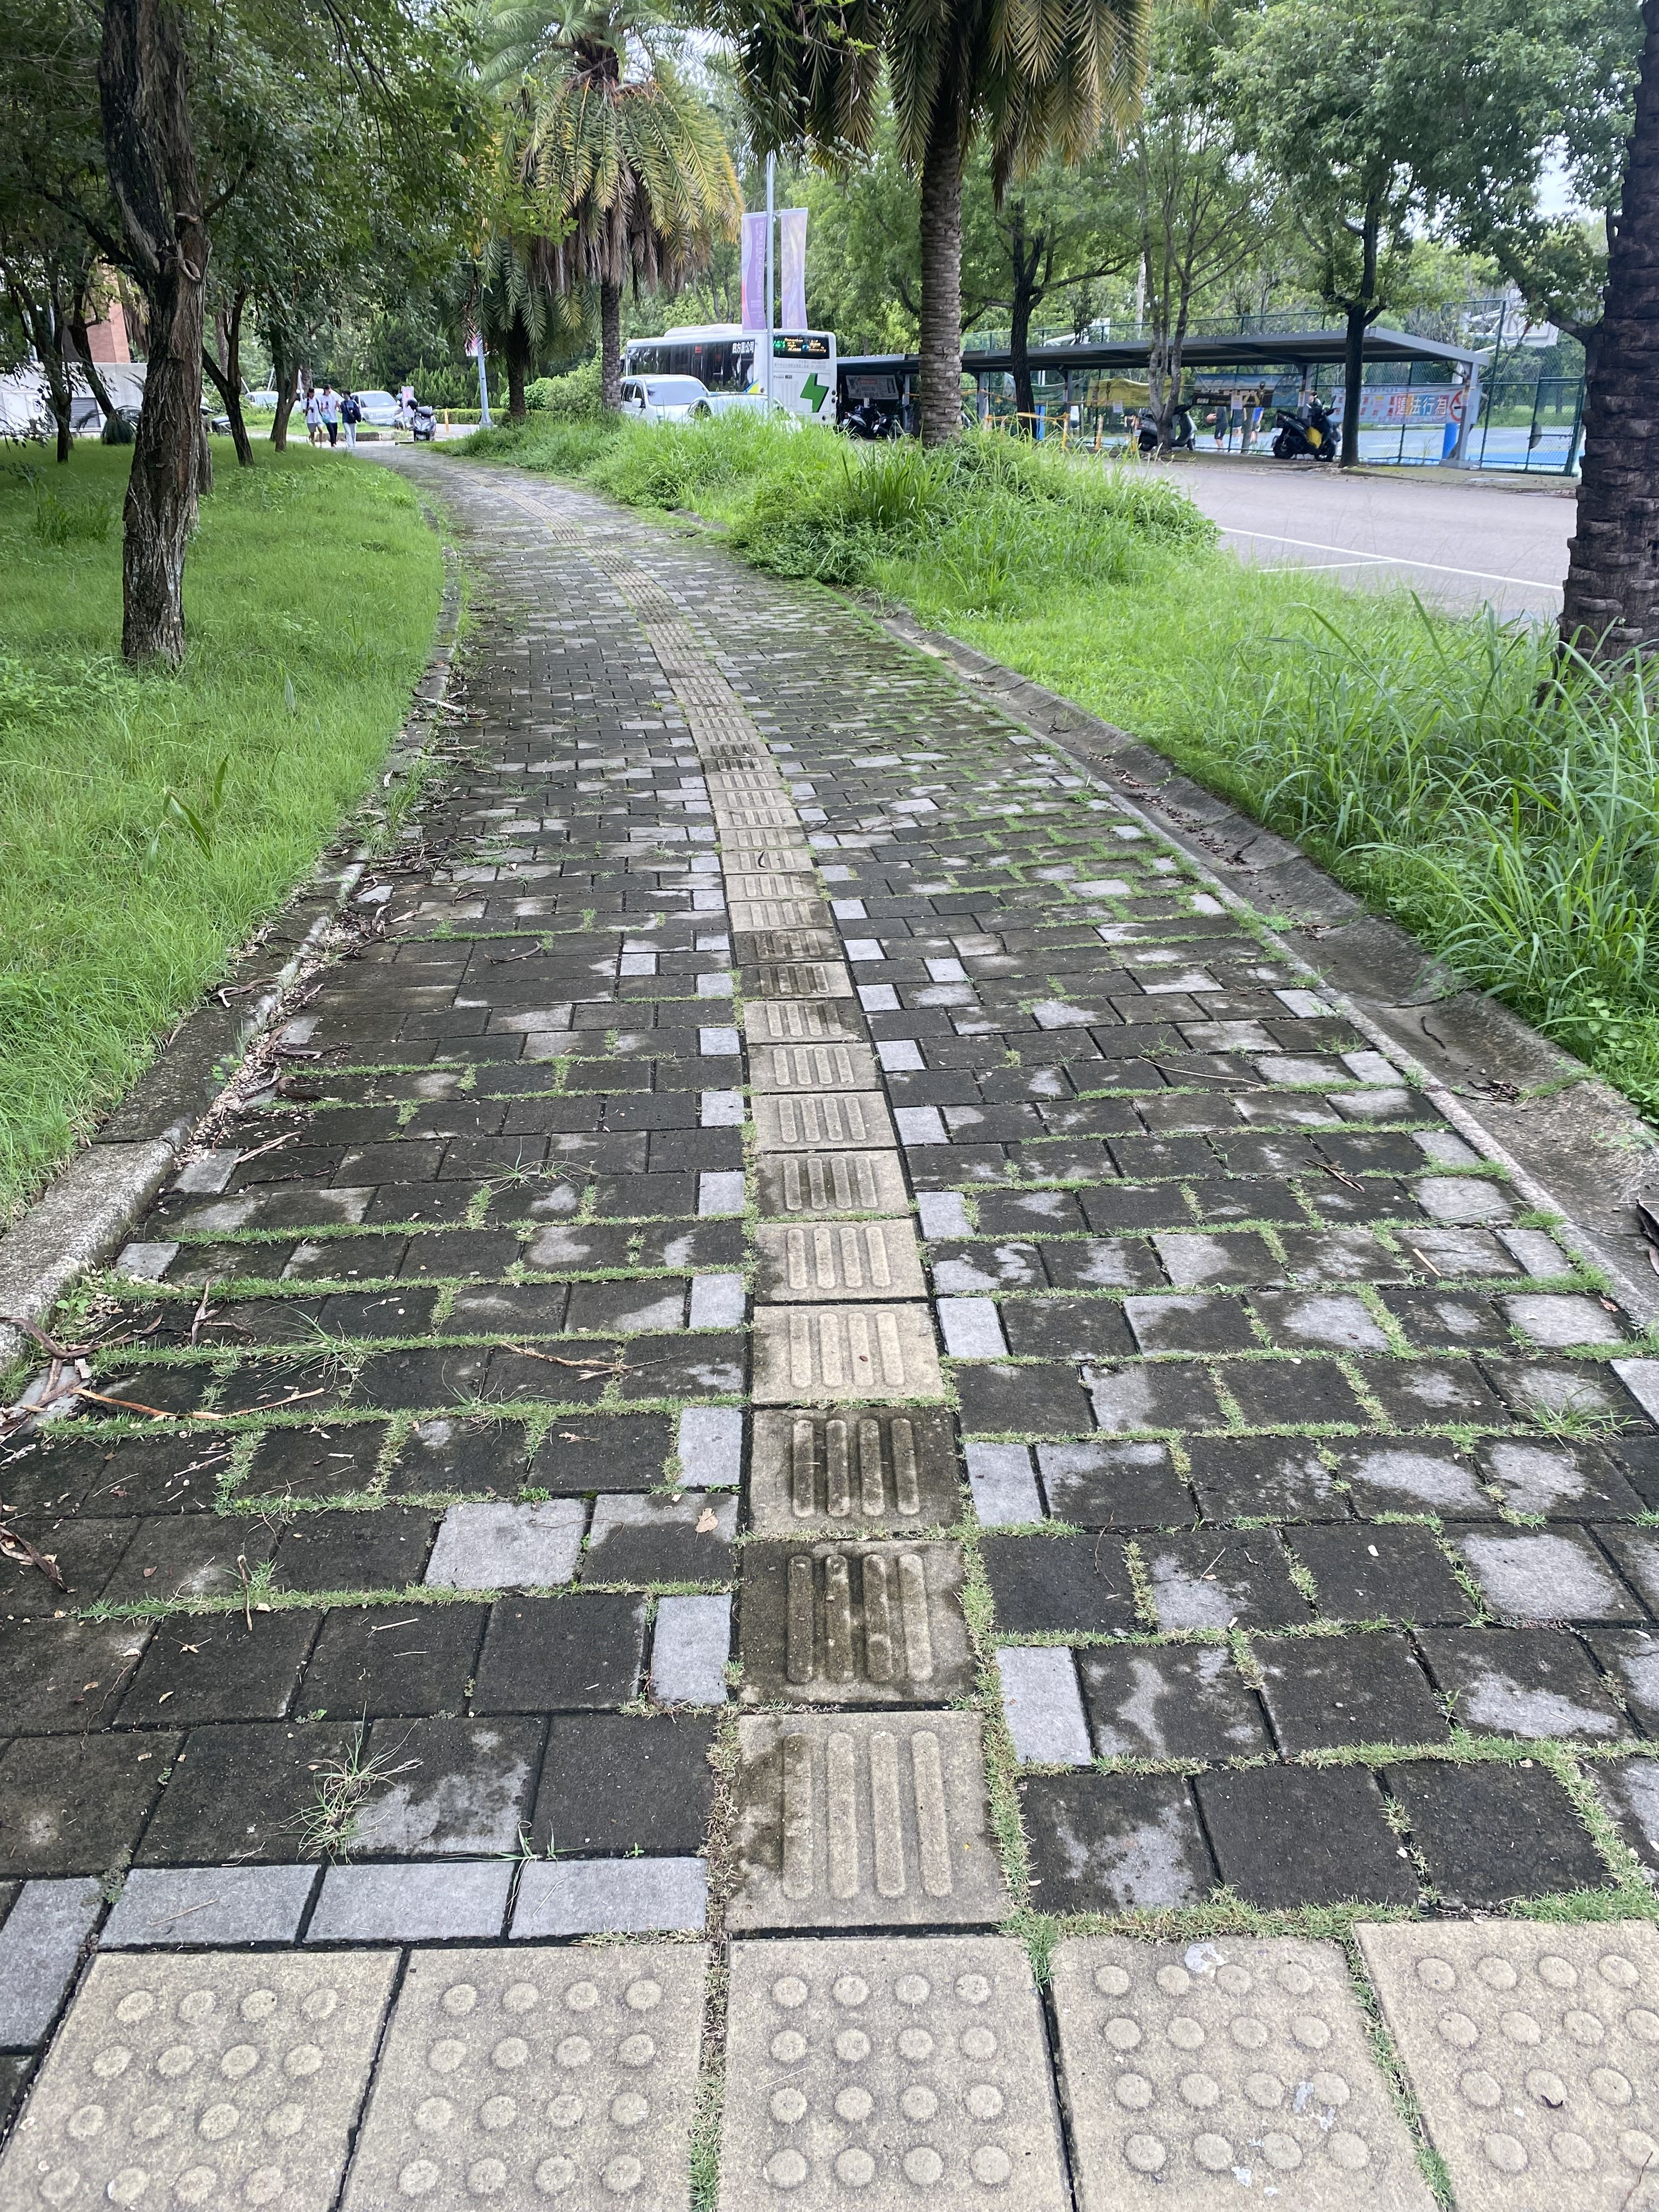sidewalk: (0, 392, 1659, 2212)
